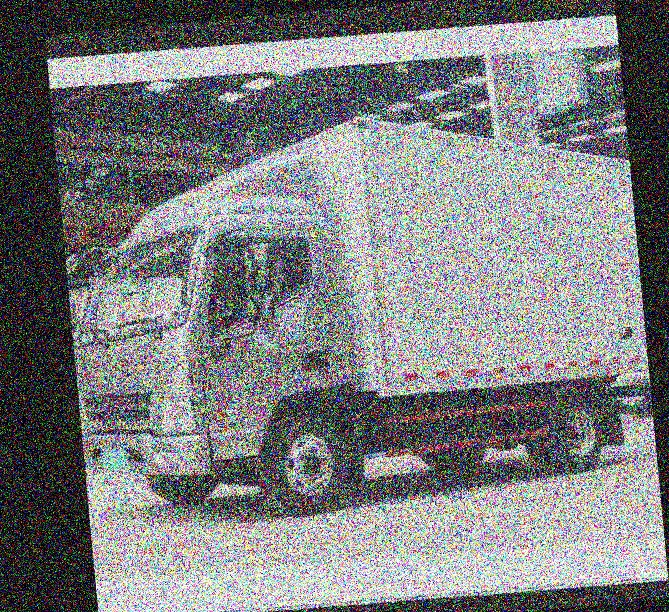truck: (54, 77, 660, 541)
